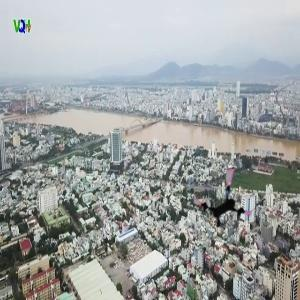drone: (192, 167, 259, 234)
